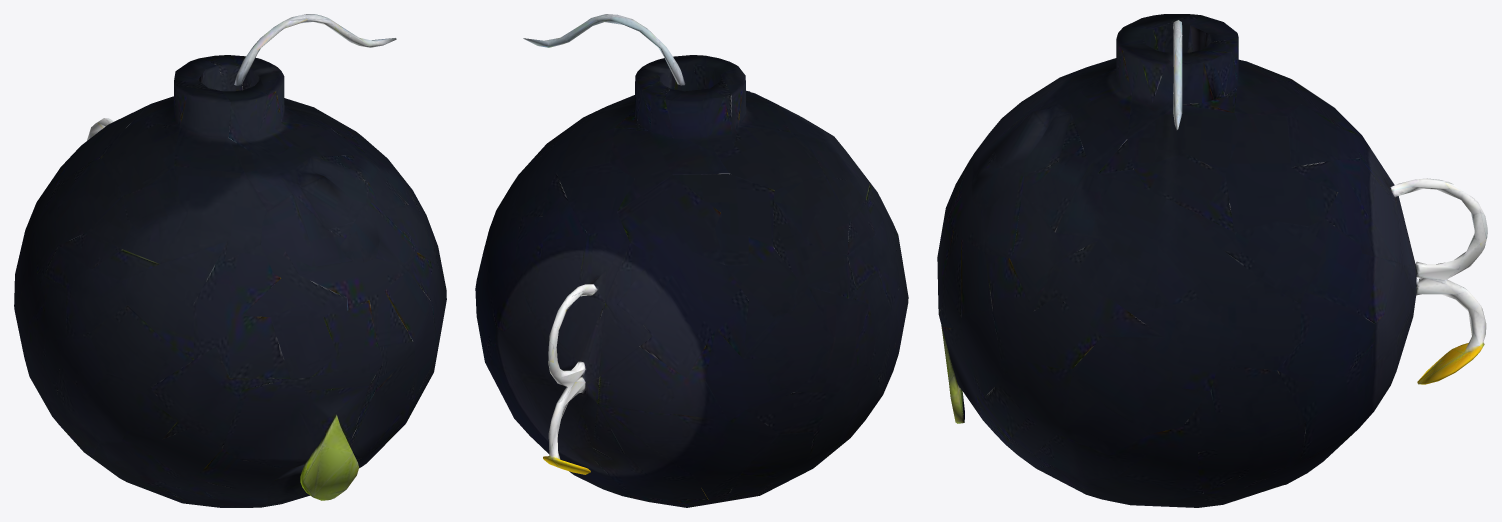
File: bomb.glb
3 renders of one model, left to right at view 1: azimuth 30°, elevation 25°; view 2: azimuth 150°, elevation 25°; view 3: azimuth 270°, elevation 25°, orthographic. The views are drawn at different scales.
Size of the model in its own units: 1.63 by 1.9 by 1.91.
Materials: 1 (1 with a texture image).
